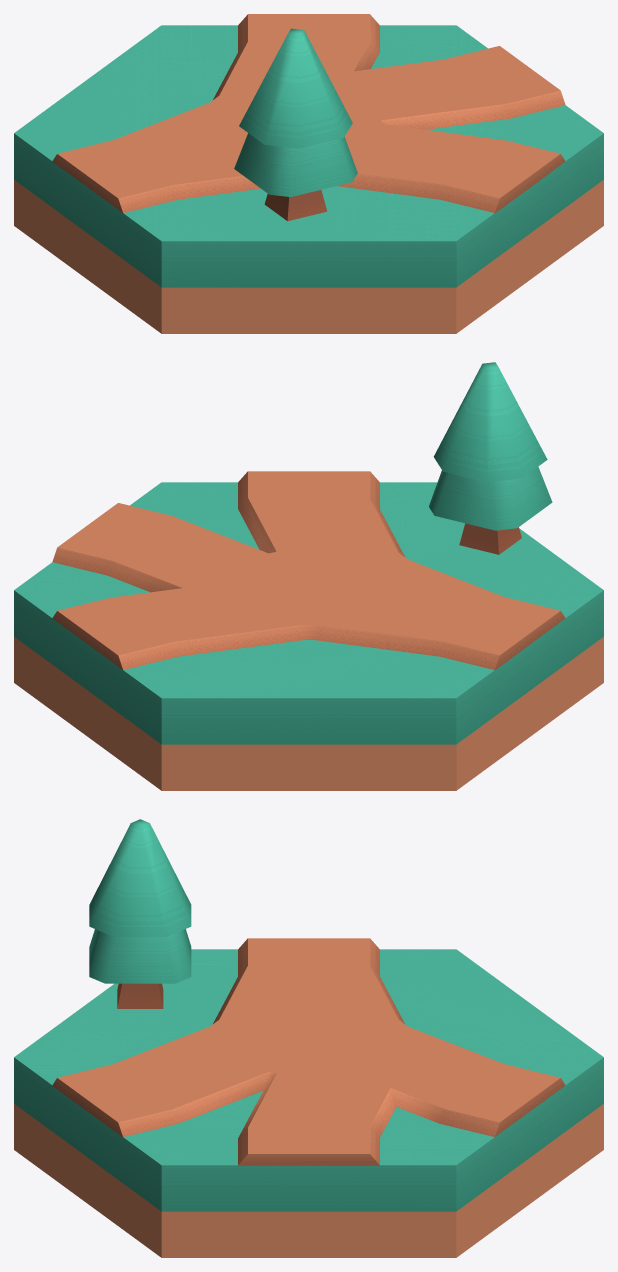
Rendered from grass-path-intersectionD-tree.glb.
3 views of the same model, one above another, from view 1: azimuth 30°, elevation 25°; view 2: azimuth 150°, elevation 25°; view 3: azimuth 270°, elevation 25° (orthographic).
Parts seen in each view (by area): view 1: grass, path-intersectionD, unit-tree; view 2: grass, path-intersectionD, unit-tree; view 3: grass, path-intersectionD, unit-tree.
Part boxes in pixels (left/top/right/bottom): grass: left=14, top=25, right=603, bottom=333; path-intersectionD: left=52, top=14, right=565, bottom=213; unit-tree: left=234, top=28, right=357, bottom=221; grass: left=14, top=482, right=603, bottom=790; path-intersectionD: left=52, top=471, right=565, bottom=670; unit-tree: left=429, top=362, right=552, bottom=554; grass: left=14, top=949, right=603, bottom=1257; path-intersectionD: left=52, top=938, right=565, bottom=1165; unit-tree: left=89, top=819, right=191, bottom=1008.
Bounding box in the file's own units: 1 × 0.603 × 1.15.
Materials: 1 (1 with a texture image).
